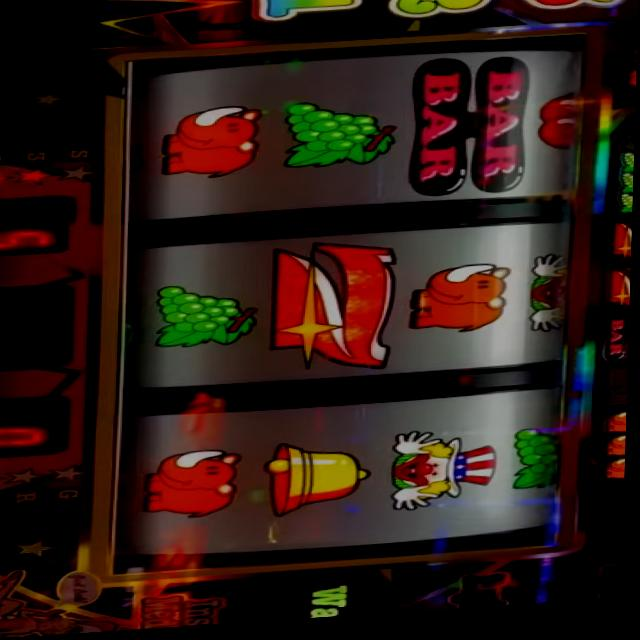bar: (407, 60, 532, 206), (603, 325, 632, 371)
bell: (263, 441, 376, 523)
cherry: (536, 99, 583, 160), (625, 77, 637, 98)
clown: (389, 432, 502, 518), (525, 261, 575, 342)
display: (114, 38, 590, 579)
elephant: (160, 107, 266, 184), (409, 267, 513, 343), (606, 466, 628, 490), (606, 444, 628, 466), (607, 421, 628, 442)
grape: (277, 100, 401, 176), (142, 449, 247, 525), (154, 283, 261, 357), (508, 434, 570, 500), (617, 159, 636, 181), (617, 202, 635, 223), (620, 182, 635, 202)
z: (268, 242, 403, 381), (608, 275, 633, 318), (610, 228, 633, 269)
